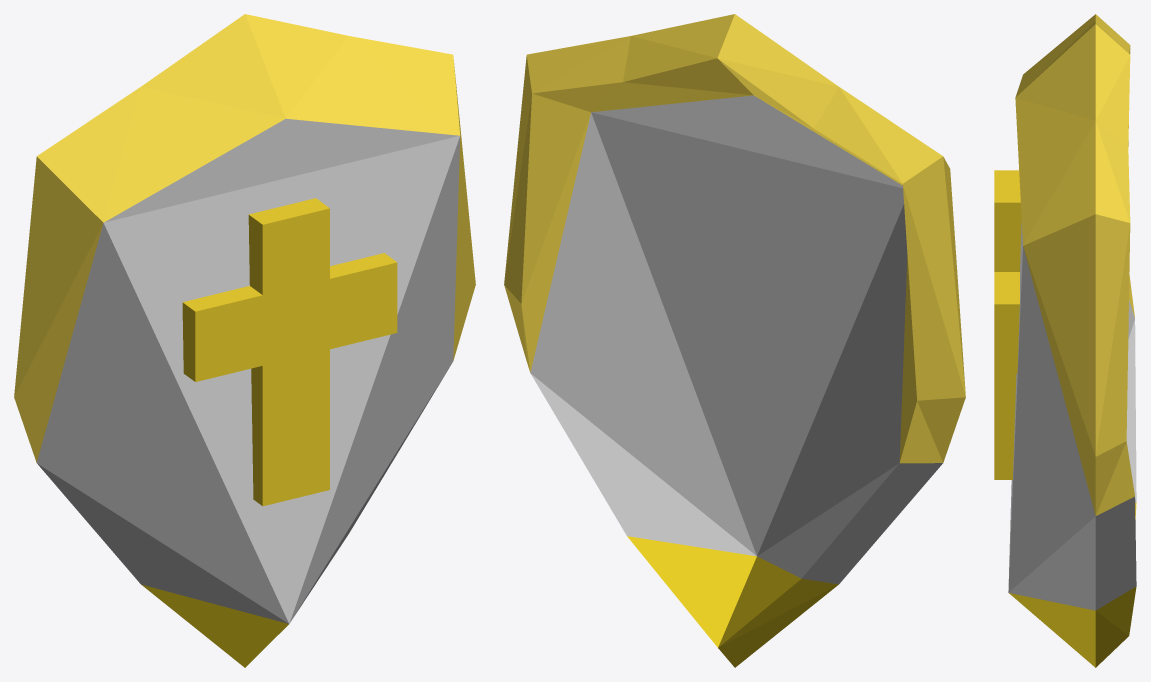
Rendered from Hero_Shield_02.fbx.
The picture shows the model from 3 angles, left to right: view 1: azimuth 30°, elevation 25°; view 2: azimuth 150°, elevation 25°; view 3: azimuth 270°, elevation 25°; orthographic projection.
Visible parts, largest first — view 1: Shield, Cross; view 2: Shield; view 3: Shield, Cross.
Part boxes in pixels (x1,y1,x2,y2): Shield: [14, 14, 475, 667]; Cross: [182, 198, 397, 506]; Shield: [504, 14, 965, 667]; Shield: [1008, 14, 1136, 667]; Cross: [994, 170, 1021, 479].
Size of the model in its own units: 0.7556 by 1.02 by 0.2046.
